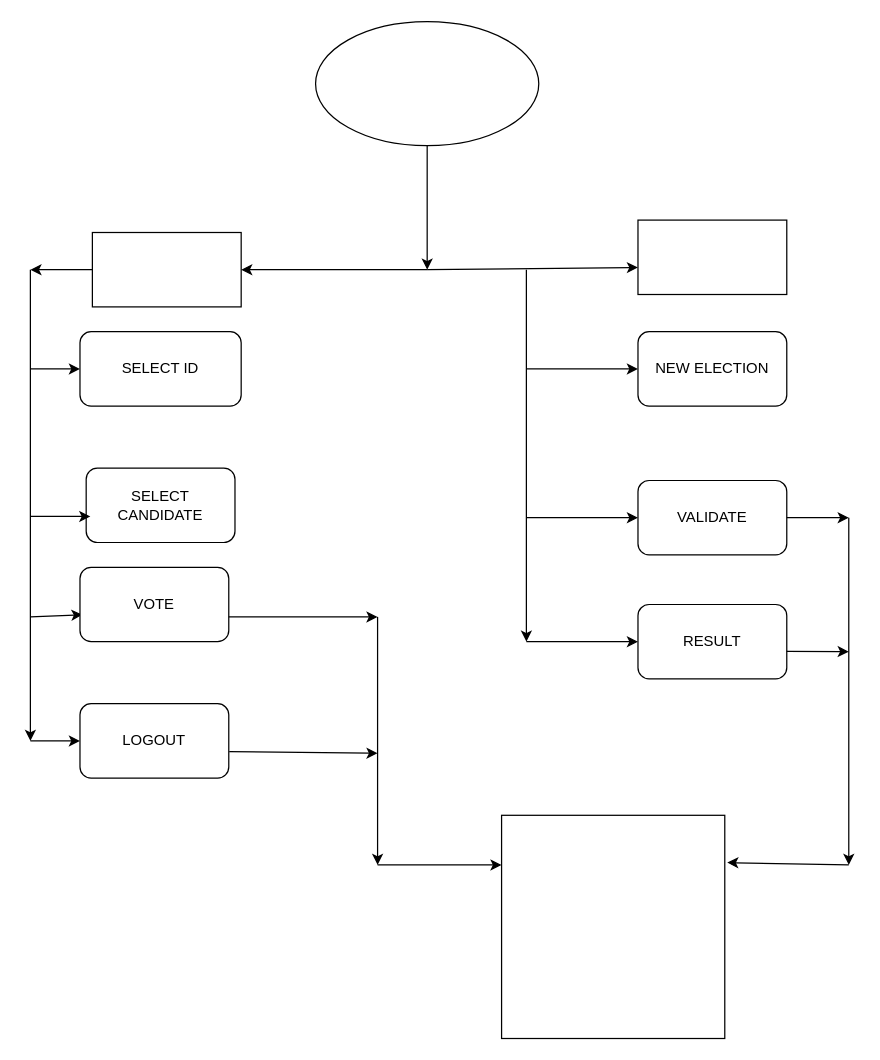
The diagram is 880 pixels wide and 1060 high, and some of its shapes have lost their labels. Each missing label, with the centre of its shape:
"ADMIN" belongs at [712,256].
"DATABASE" belongs at [612,926].
"LOGIN" belongs at [426,83].
"USER" belongs at [166,269].
